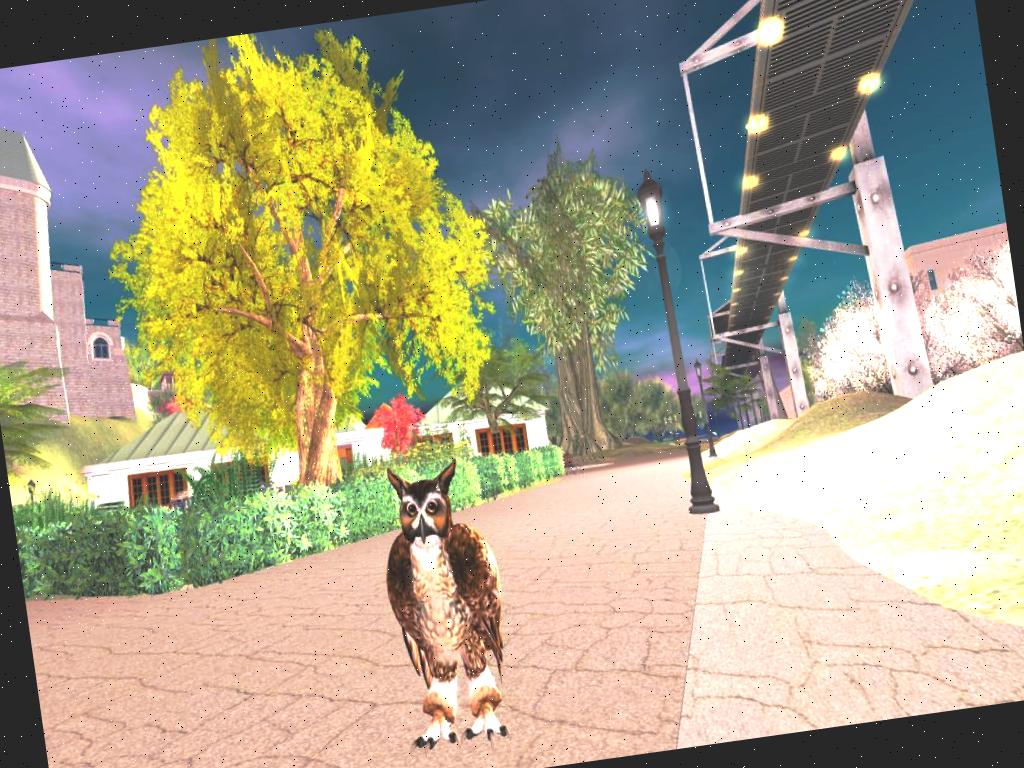Owl: (370, 450, 523, 752)
